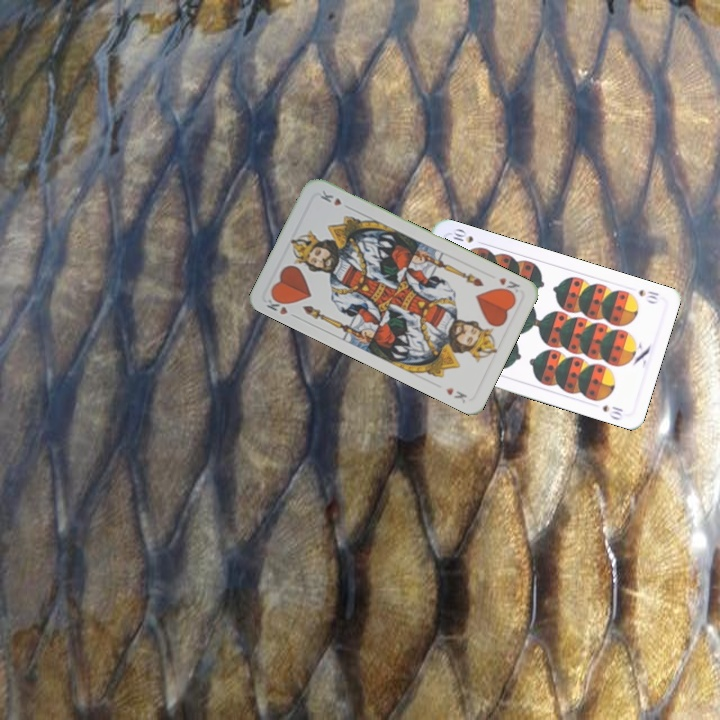HK: (262, 291, 300, 321), (494, 273, 523, 298)
S10: (635, 285, 662, 306)
